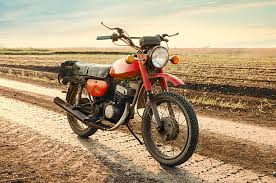bike: (48, 14, 240, 172)
